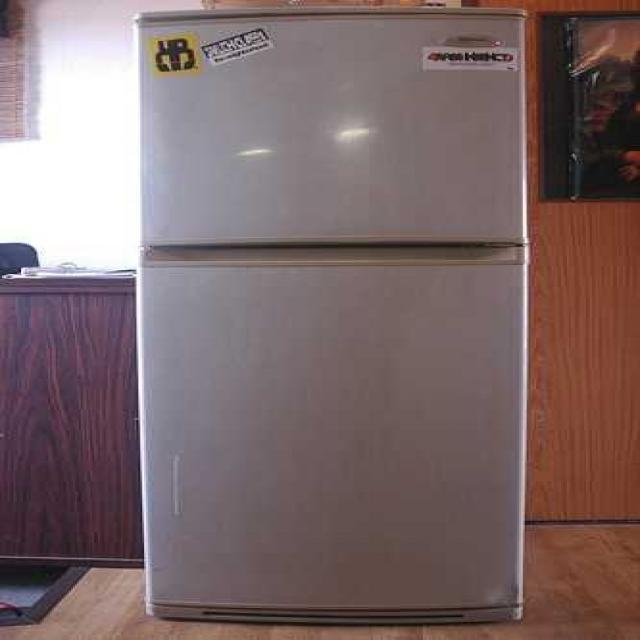refrigerator: (134, 9, 526, 618)
